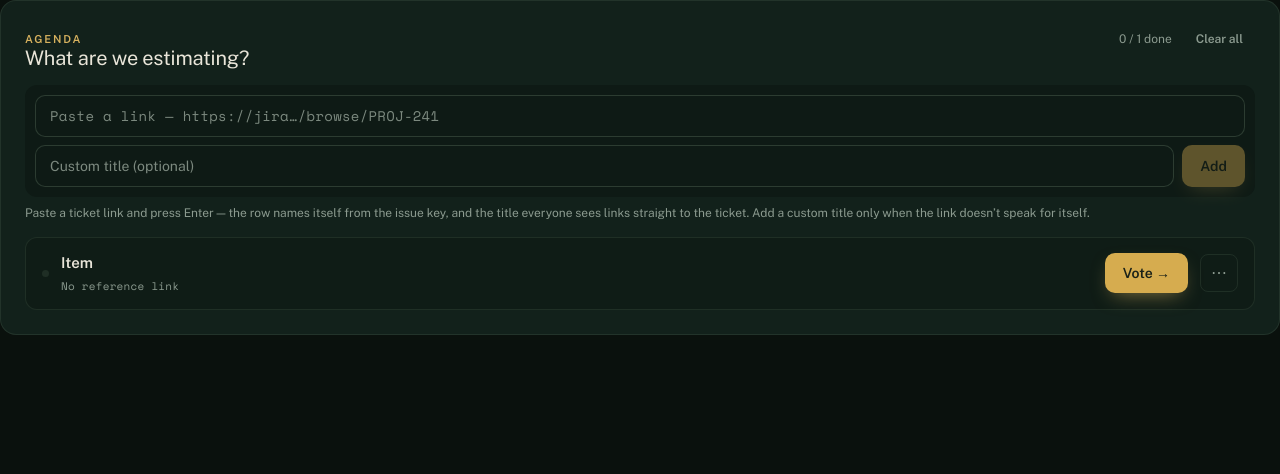
Agenda › keeps secondary actions behind the overflow menu
expect the button "remove" is not shown: met
Click the button named "more actions" at (1219, 273), box [1200,254,1238,292]
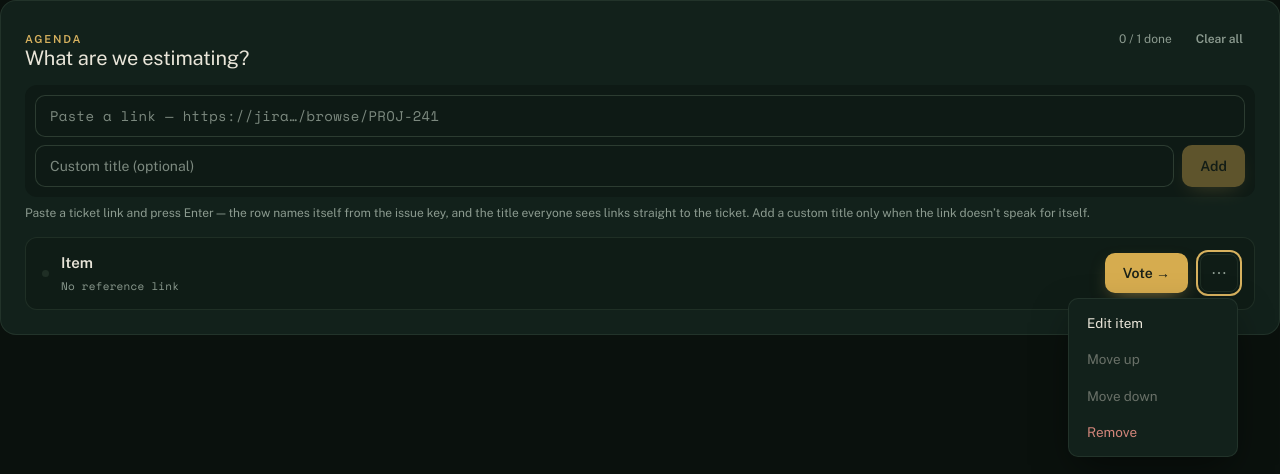
expect the button "Remove" is shown: met, box [1075,414,1231,450]
